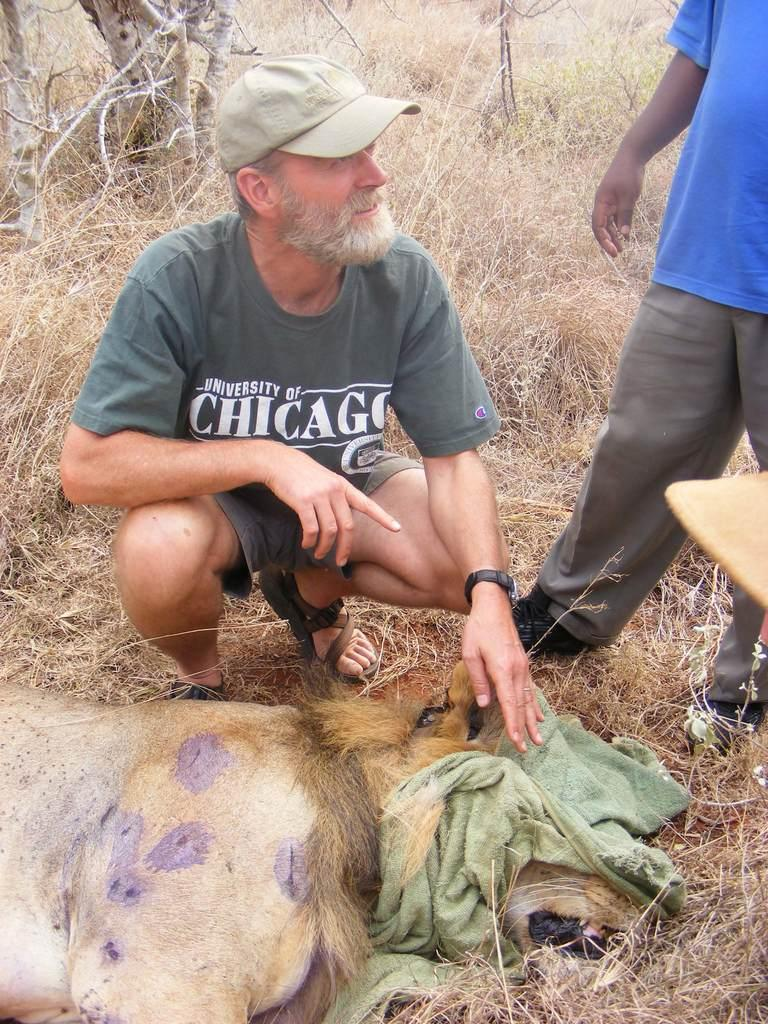Hat: (212, 48, 428, 176)
